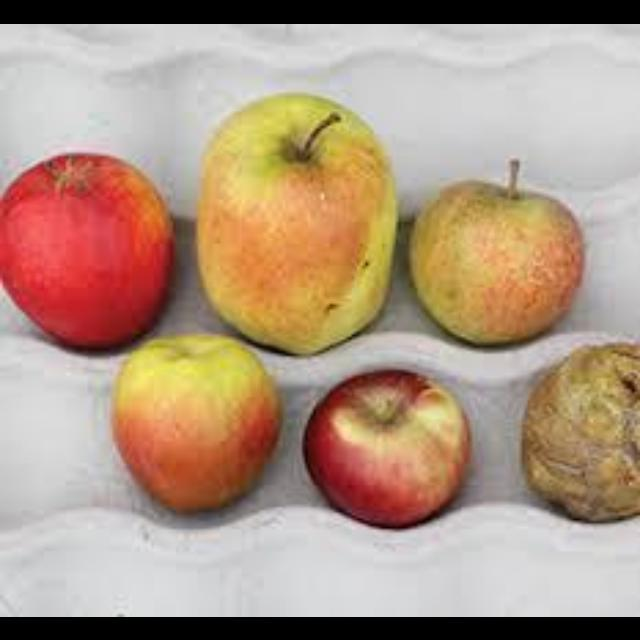apple: (198, 92, 396, 350), (0, 152, 173, 344), (409, 158, 582, 339), (113, 333, 280, 509), (302, 369, 470, 523), (522, 342, 637, 520)
rotten: (522, 342, 637, 520)
